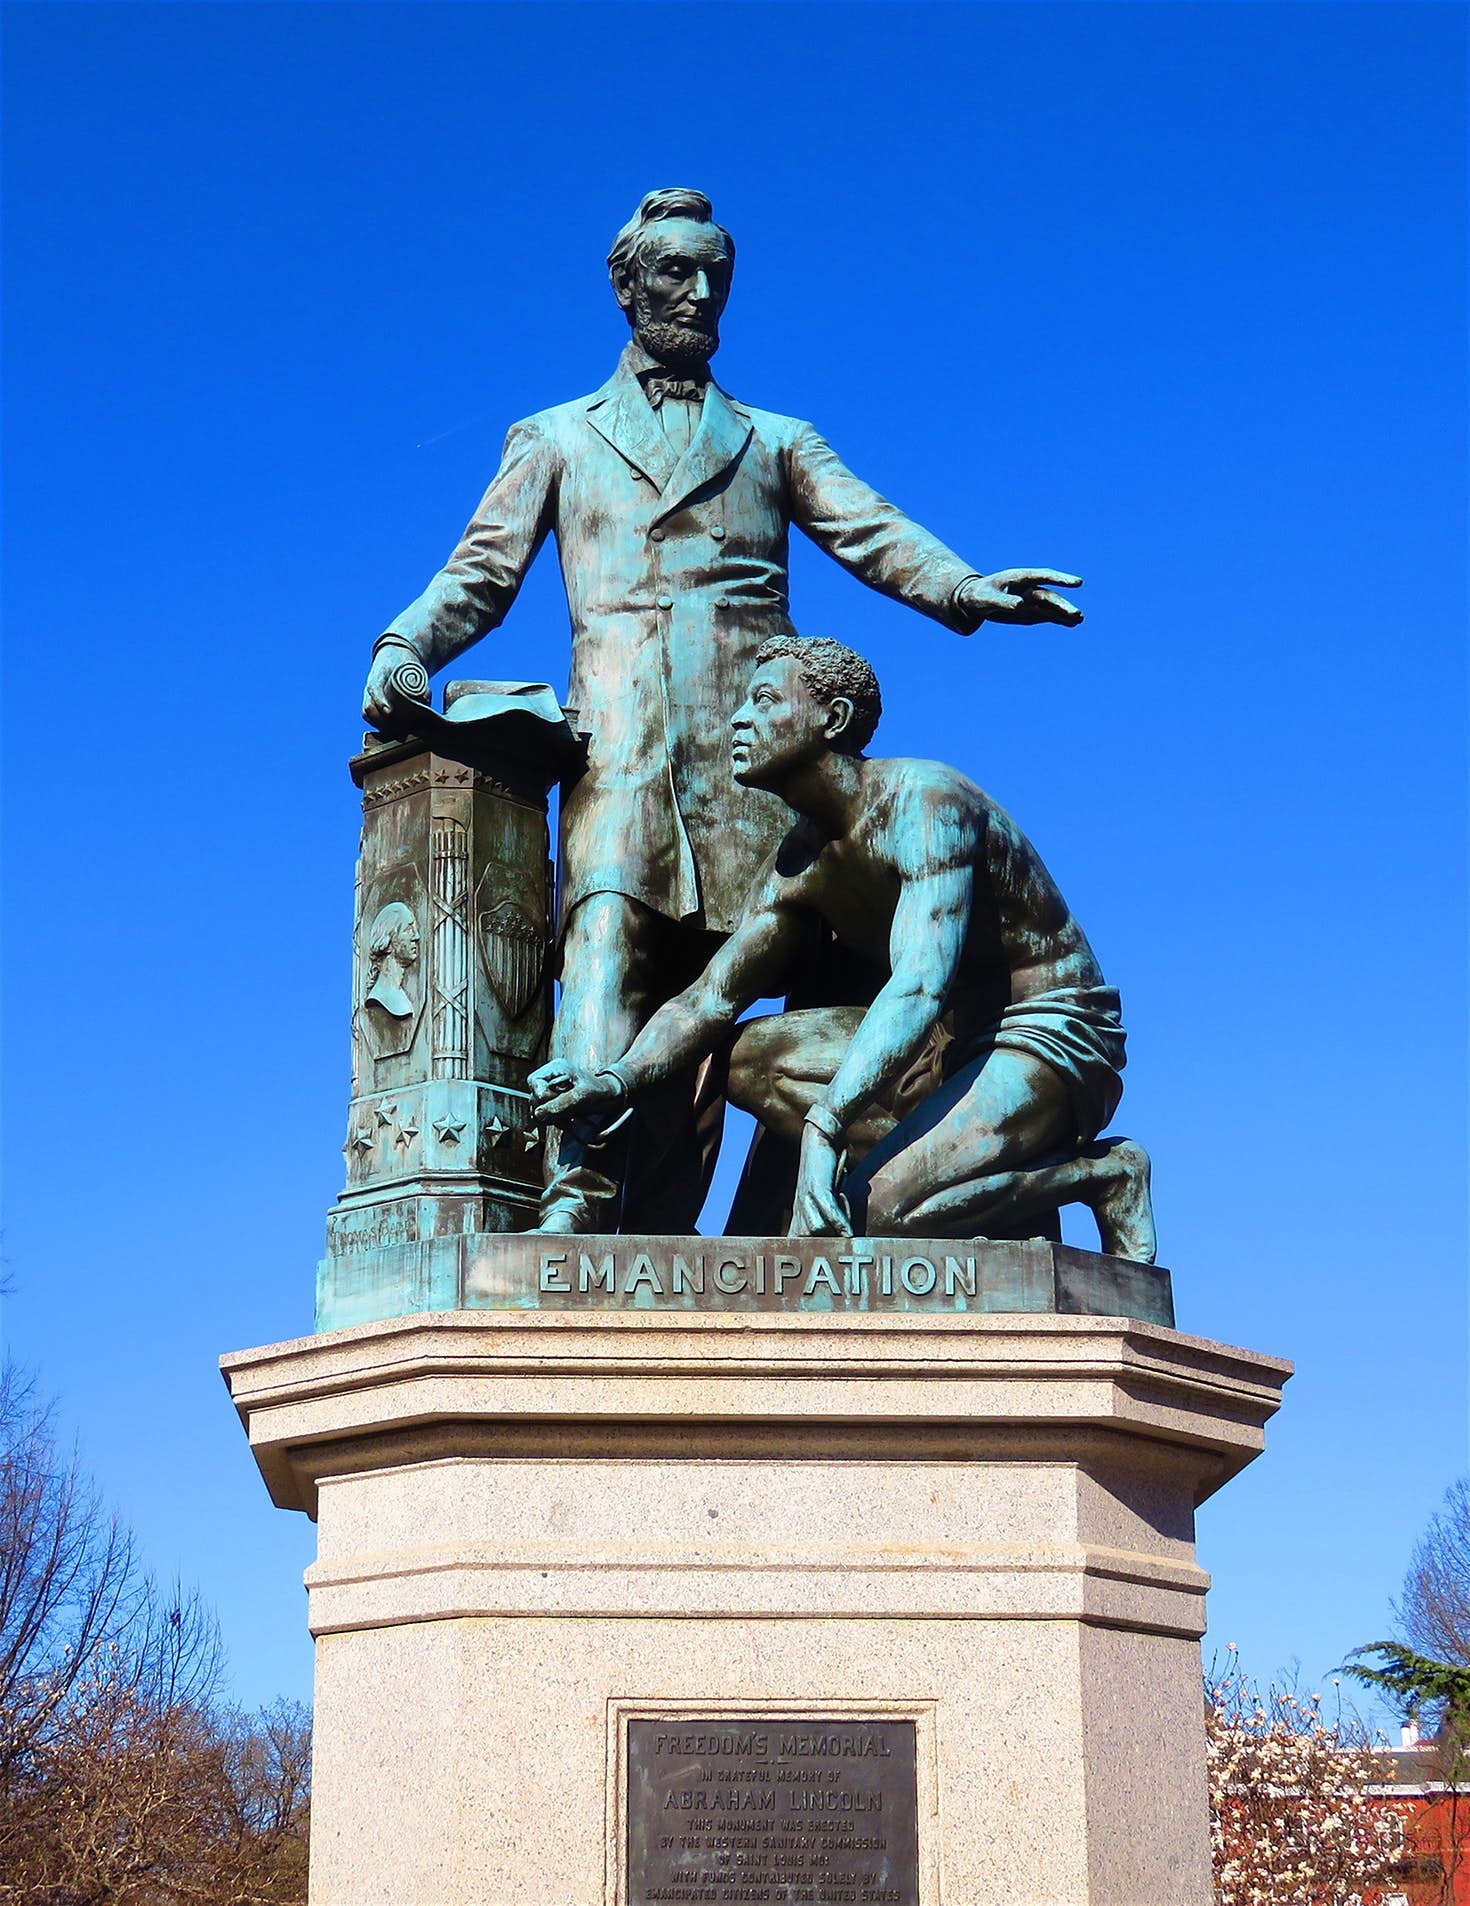person-like: (361, 179, 1109, 1237), (522, 624, 1176, 1287)
